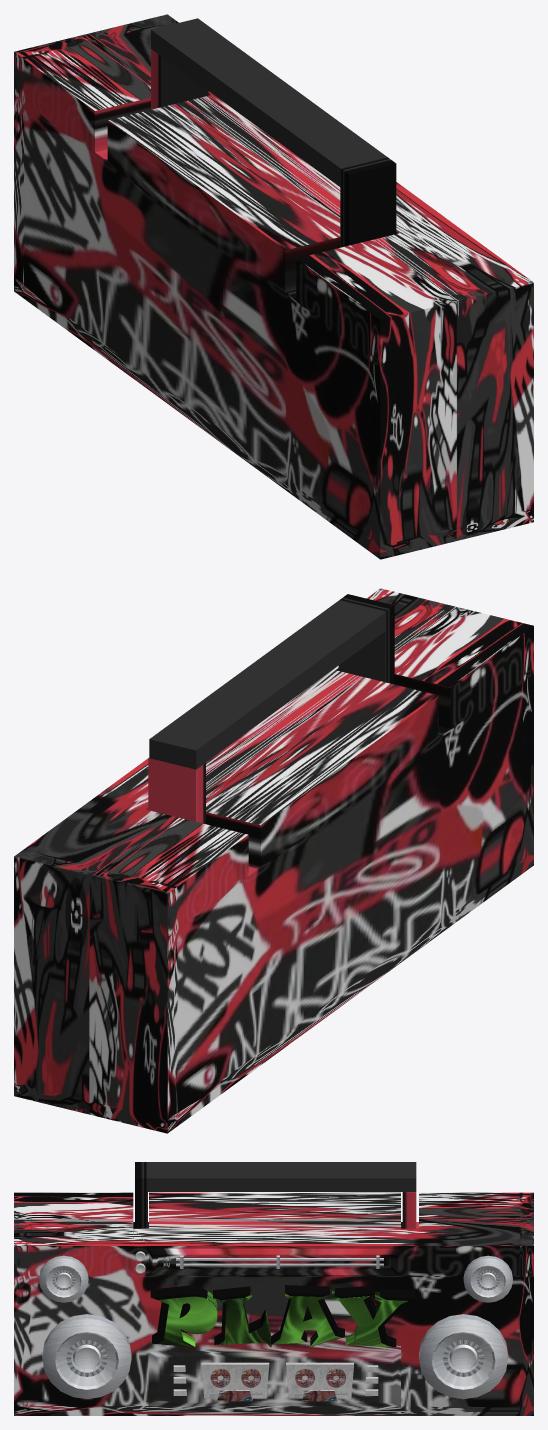
File: IconoPlayGrabadora_fbx_001.dae
3 renders of one model, top to bottom at view 1: azimuth 30°, elevation 25°; view 2: azimuth 150°, elevation 25°; view 3: azimuth 270°, elevation 25°, orthographic. The views are drawn at different scales.
Visible parts, largest first — view 1: armazon; view 2: armazon; view 3: armazon.
Boxes of the visible parts, x1,y1,x2,y2 form: armazon: (14, 14, 533, 559); armazon: (14, 588, 533, 1133); armazon: (14, 1162, 533, 1415).
Size of the model in its own units: 2.04 by 3.4 by 7.31.
